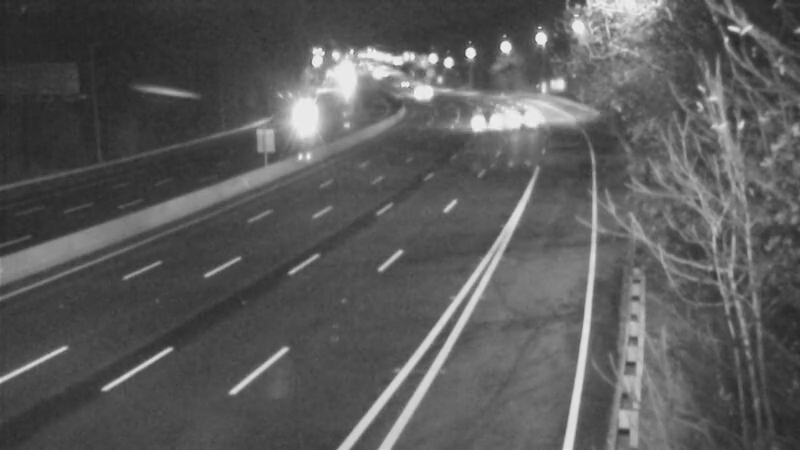vehicle: (376, 55, 426, 105), (396, 68, 446, 118), (454, 92, 504, 142), (498, 87, 548, 137), (281, 86, 331, 136)
